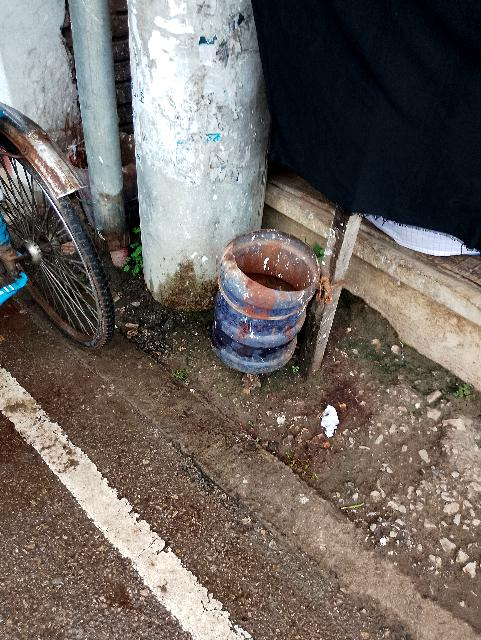bottle: (199, 244, 330, 385)
